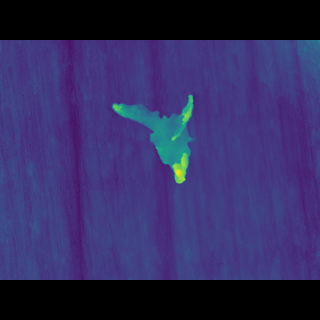Loch: (109, 109, 198, 179)
